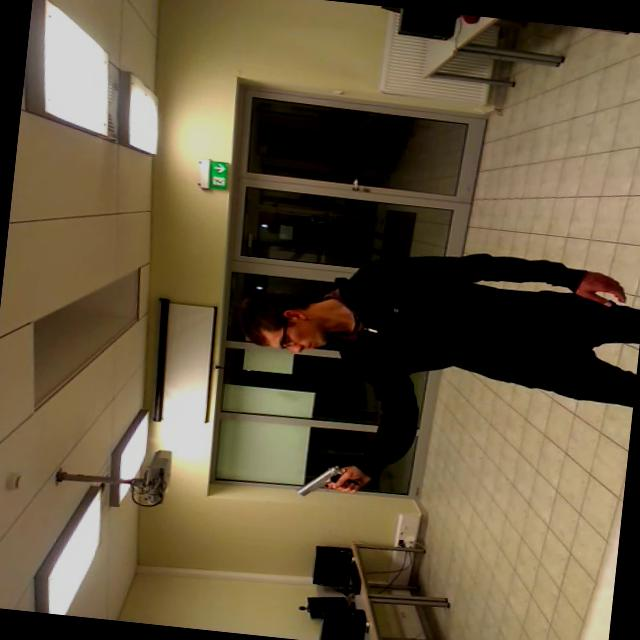handgun: (286, 457, 380, 508)
